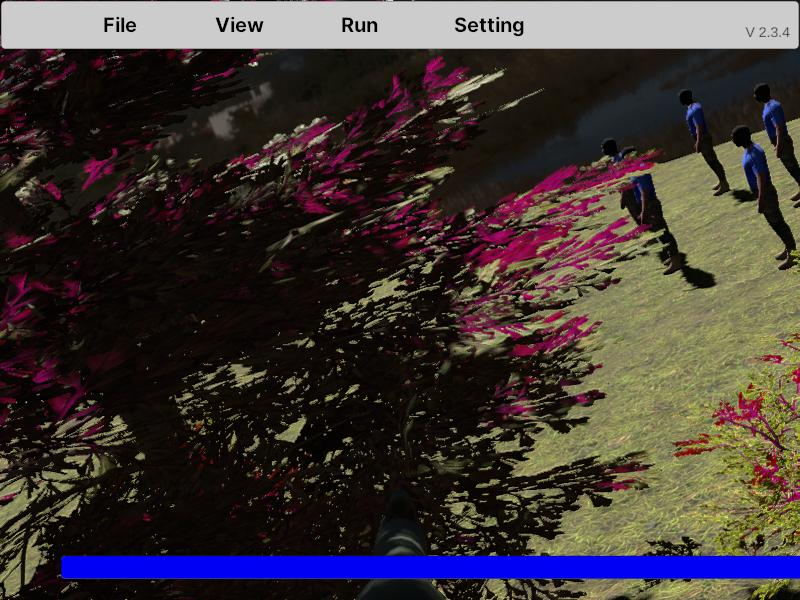Human: (732, 124, 798, 272), (752, 82, 800, 209), (678, 90, 731, 197)
